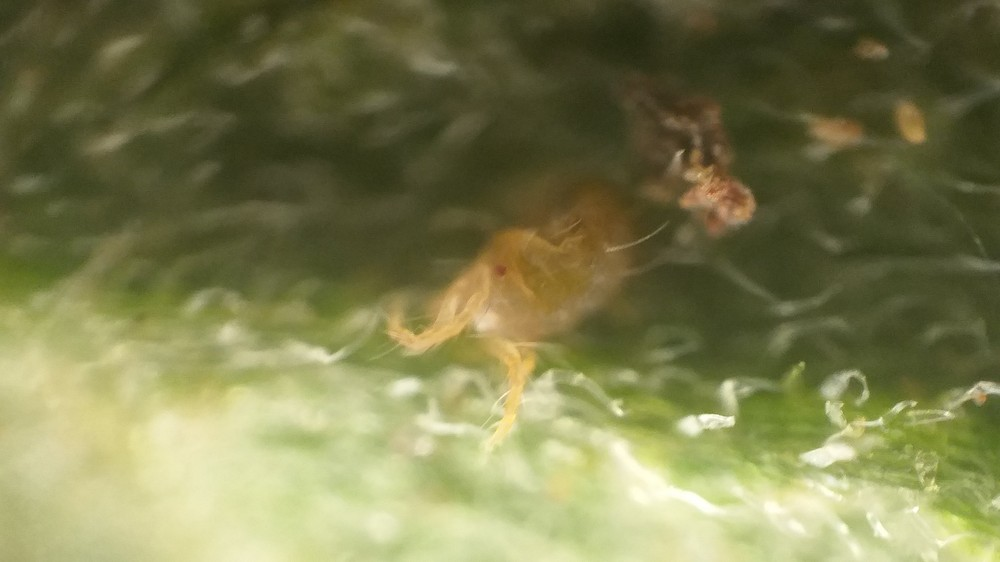Aracnido Rojo: (373, 157, 689, 443)
